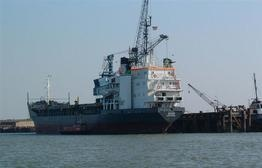Cargoship: (25, 1, 262, 135)
